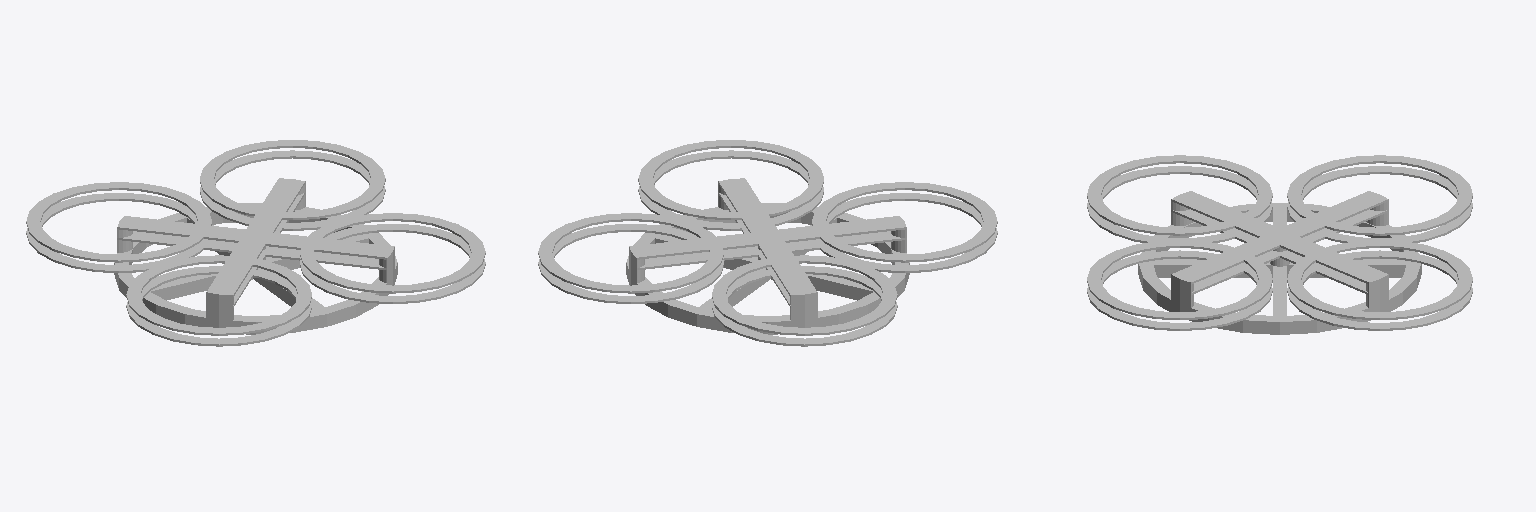
Rendered from drone.obj.
The picture shows the model from 3 angles: view 1: azimuth 30°, elevation 25°; view 2: azimuth 150°, elevation 25°; view 3: azimuth 270°, elevation 25°; orthographic projection.
Parts seen in each view (by area): view 1: SketchUp.002_ID195; view 2: SketchUp.002_ID195; view 3: SketchUp.002_ID195.
Boxes of the visible parts, x1=… form: SketchUp.002_ID195: x1=26, y1=140, x2=485, y2=346; SketchUp.002_ID195: x1=538, y1=140, x2=997, y2=346; SketchUp.002_ID195: x1=1087, y1=155, x2=1472, y2=334.
Size of the model in its own units: 4.16 by 0.4572 by 4.16.